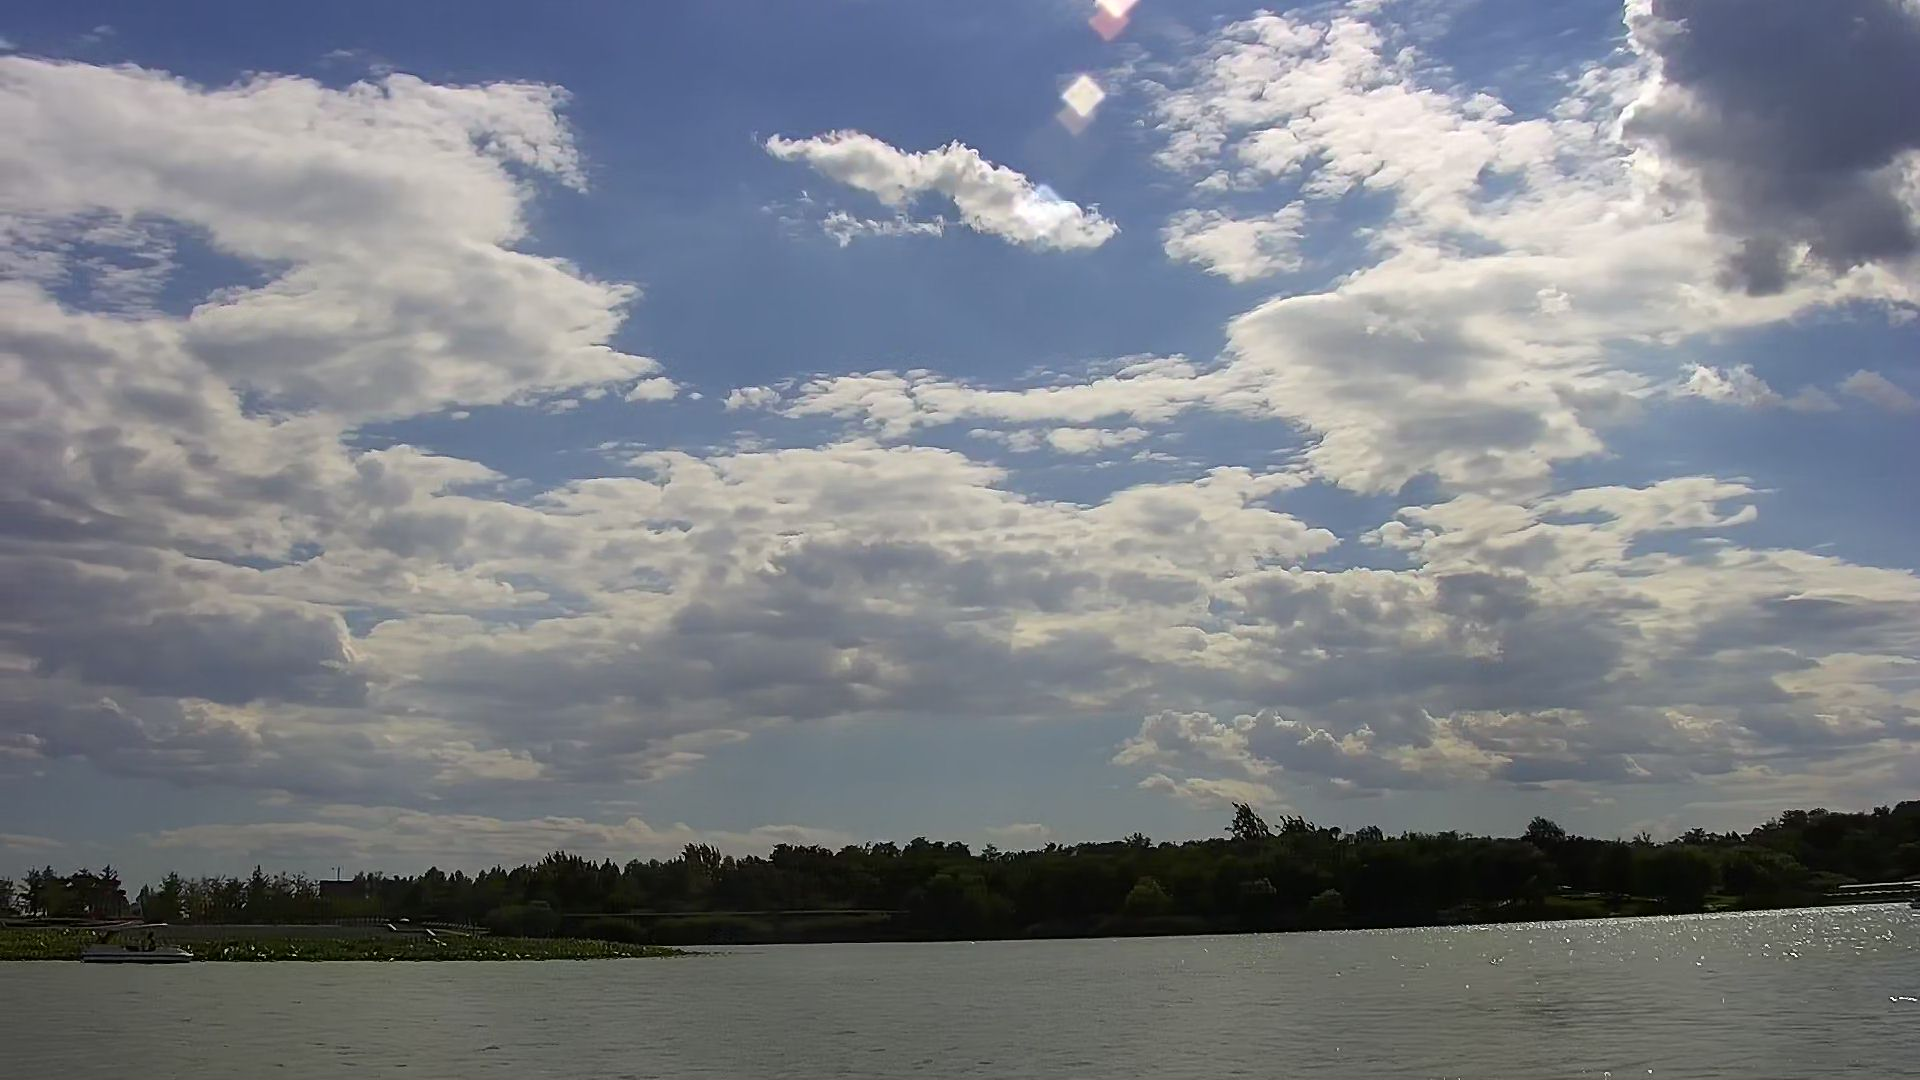grass: (7, 931, 673, 969)
harbor: (1847, 880, 1920, 907)
